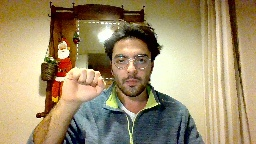Pugno: (60, 64, 109, 106)
